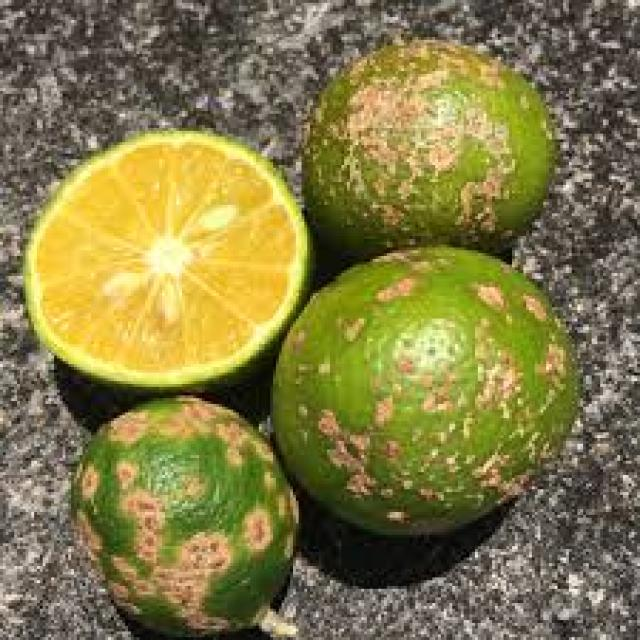scab: (264, 242, 587, 542), (296, 36, 561, 258), (67, 388, 302, 634)
